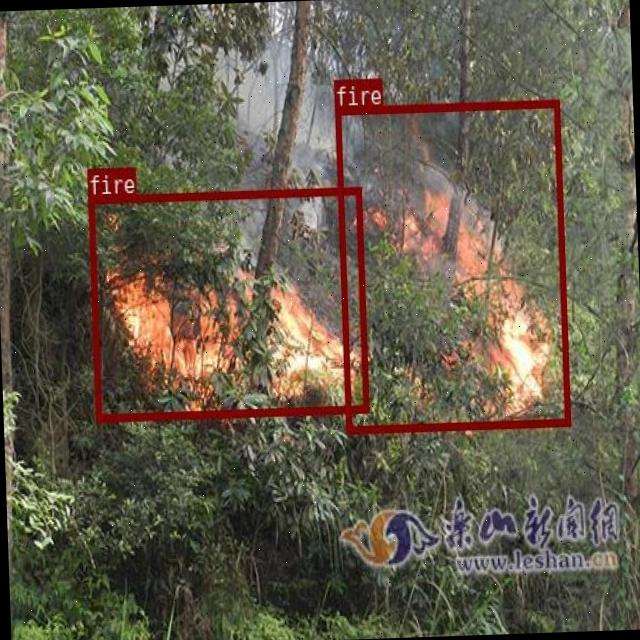fire: (334, 99, 568, 432), (88, 184, 368, 420)
